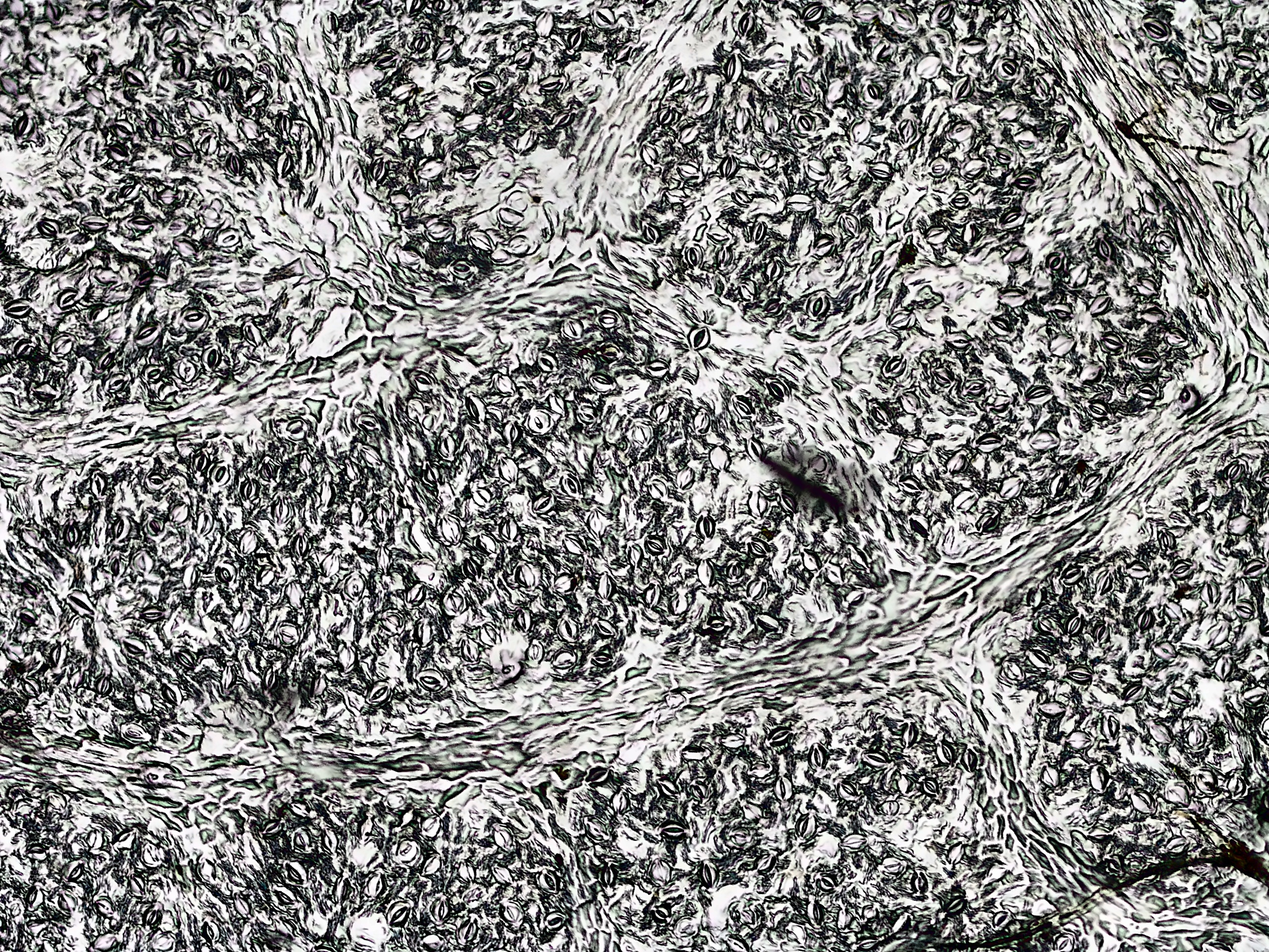stomata: (439, 513, 466, 547), (1181, 720, 1208, 752), (897, 116, 922, 149), (846, 542, 874, 571), (582, 816, 611, 843), (364, 681, 396, 705), (454, 110, 487, 133), (1079, 360, 1108, 386), (706, 442, 732, 471), (1044, 299, 1074, 324), (647, 858, 672, 888), (423, 218, 454, 242), (944, 448, 970, 476), (554, 615, 580, 643), (414, 671, 447, 693), (66, 593, 99, 615), (747, 488, 771, 518), (1131, 349, 1163, 371), (1194, 769, 1221, 795), (1048, 332, 1076, 357), (180, 306, 209, 330), (398, 117, 427, 141), (119, 724, 155, 743), (765, 376, 791, 402), (493, 825, 519, 851), (894, 5, 919, 32), (189, 2, 217, 26), (196, 855, 219, 884), (78, 211, 111, 231), (1028, 430, 1058, 452), (796, 812, 818, 842), (437, 428, 458, 459), (976, 511, 1001, 537), (463, 228, 490, 252), (804, 744, 828, 771), (688, 324, 712, 351), (427, 896, 451, 923), (470, 70, 498, 93), (783, 191, 815, 211), (466, 392, 486, 424), (417, 159, 446, 181), (915, 56, 944, 78), (1141, 19, 1170, 41), (959, 159, 989, 180), (807, 290, 828, 320), (586, 373, 619, 392), (930, 2, 955, 27), (1163, 782, 1189, 806), (187, 99, 214, 122), (240, 319, 263, 346), (952, 489, 979, 512), (838, 831, 869, 851), (1208, 91, 1236, 113), (883, 351, 905, 379), (698, 861, 720, 889), (31, 379, 59, 401), (364, 870, 386, 898), (610, 787, 632, 815), (321, 546, 340, 578), (959, 34, 989, 54), (952, 75, 972, 105), (1024, 384, 1054, 404), (1065, 730, 1095, 750), (672, 918, 702, 938), (449, 257, 475, 280), (552, 571, 578, 594), (946, 119, 973, 141), (1125, 558, 1152, 580), (773, 776, 795, 803), (456, 635, 478, 662), (345, 573, 367, 600), (802, 160, 830, 181), (852, 117, 872, 146), (1124, 211, 1144, 240), (1049, 470, 1069, 499), (695, 511, 715, 540), (694, 556, 714, 585), (462, 661, 491, 681), (1165, 324, 1189, 348), (999, 477, 1023, 501), (278, 624, 302, 648), (50, 332, 75, 355), (800, 547, 823, 572), (461, 559, 486, 582), (926, 222, 952, 244), (645, 357, 671, 379), (284, 416, 310, 438), (375, 542, 394, 572), (1000, 207, 1027, 228), (945, 330, 972, 351), (1212, 654, 1233, 681), (1147, 723, 1174, 744), (562, 471, 583, 498), (9, 110, 29, 138), (534, 9, 554, 37), (853, 2, 881, 22), (1155, 59, 1183, 79), (1002, 659, 1026, 682), (514, 564, 537, 588), (387, 902, 410, 926), (538, 870, 561, 894), (2, 299, 31, 318), (724, 54, 743, 83), (975, 433, 1004, 452), (794, 74, 816, 99), (1165, 833, 1190, 855), (528, 409, 550, 434), (593, 573, 615, 598), (442, 592, 464, 617), (809, 234, 835, 255), (356, 411, 382, 432), (998, 285, 1028, 303), (499, 457, 519, 484), (416, 617, 436, 644), (372, 499, 390, 529), (295, 450, 315, 477), (273, 496, 293, 523), (286, 580, 306, 607), (1134, 381, 1162, 400), (1065, 664, 1093, 683), (643, 582, 662, 610), (494, 371, 517, 394), (475, 533, 498, 556), (734, 14, 756, 38), (1189, 491, 1211, 515), (20, 526, 44, 548), (21, 675, 43, 699), (137, 324, 162, 345), (201, 346, 222, 371), (1086, 294, 1111, 315), (841, 211, 862, 236), (538, 349, 559, 374), (747, 576, 768, 601), (563, 533, 588, 554), (480, 621, 501, 646), (407, 371, 436, 389), (349, 499, 367, 528), (1141, 303, 1167, 323), (1027, 649, 1053, 669), (547, 392, 567, 418), (380, 610, 406, 630), (233, 892, 253, 918), (1135, 605, 1154, 632), (513, 605, 532, 632), (332, 873, 348, 905), (106, 373, 129, 395), (928, 156, 951, 178), (360, 445, 383, 467), (899, 391, 920, 415), (1038, 699, 1066, 717), (1135, 789, 1156, 813), (57, 890, 78, 914), (1082, 470, 1102, 495), (1242, 688, 1267, 708), (654, 777, 679, 797), (551, 648, 576, 668), (292, 532, 312, 557), (272, 886, 297, 906), (198, 507, 214, 538), (591, 7, 617, 26), (1201, 581, 1220, 607), (766, 726, 792, 745), (596, 309, 622, 328), (526, 638, 545, 664), (734, 105, 751, 134), (390, 83, 417, 101), (339, 644, 357, 671), (245, 82, 267, 104), (13, 337, 35, 359), (561, 317, 583, 339), (133, 551, 155, 573), (419, 813, 441, 835), (84, 51, 105, 74), (123, 65, 146, 86), (142, 361, 165, 382), (802, 2, 825, 23), (1060, 565, 1083, 586), (882, 856, 905, 877), (631, 421, 652, 444), (823, 561, 844, 584), (648, 478, 669, 501), (93, 896, 116, 917), (639, 144, 659, 168), (944, 840, 964, 864), (406, 582, 426, 606), (718, 731, 746, 748), (91, 471, 108, 499), (275, 111, 294, 136), (1088, 400, 1113, 419), (964, 377, 989, 396), (898, 475, 923, 494), (1228, 775, 1247, 800), (670, 592, 689, 617), (135, 689, 154, 714), (421, 853, 440, 878), (502, 419, 520, 445), (757, 614, 783, 632), (680, 746, 711, 761), (509, 234, 531, 255), (755, 147, 777, 168), (533, 492, 555, 513), (141, 842, 163, 863), (174, 56, 194, 79), (97, 349, 117, 372), (777, 489, 797, 512), (595, 616, 618, 636), (471, 486, 494, 506), (238, 529, 258, 552), (1091, 764, 1108, 791), (120, 638, 147, 655), (322, 827, 339, 854), (989, 318, 1013, 337), (233, 610, 252, 634), (459, 920, 478, 944), (217, 229, 242, 247), (900, 723, 918, 748), (704, 616, 732, 632), (126, 213, 152, 230), (373, 50, 399, 67), (903, 436, 929, 453), (1104, 713, 1121, 739), (240, 476, 257, 502), (140, 605, 166, 622), (25, 884, 42, 910), (204, 920, 221, 946), (58, 287, 79, 308), (88, 302, 109, 323), (678, 124, 699, 145), (1154, 233, 1175, 254), (169, 502, 190, 523), (287, 863, 308, 884), (38, 218, 60, 238), (889, 310, 911, 330), (1052, 932, 1074, 952), (500, 518, 520, 540), (491, 865, 513, 885), (111, 118, 134, 137), (199, 133, 218, 156), (551, 108, 574, 127), (761, 109, 780, 132), (1172, 558, 1195, 577), (993, 908, 1012, 931), (937, 740, 956, 763), (212, 462, 231, 485), (587, 765, 610, 784), (178, 358, 196, 382), (566, 27, 584, 51), (1064, 613, 1082, 637), (1122, 684, 1146, 702), (661, 823, 688, 839), (965, 220, 981, 247), (764, 258, 782, 282), (747, 437, 765, 461), (309, 673, 327, 697), (290, 800, 314, 818), (911, 871, 928, 896), (113, 515, 130, 540), (23, 840, 48, 857), (1164, 601, 1184, 622), (947, 896, 968, 916), (689, 781, 709, 802), (735, 398, 755, 419), (223, 661, 238, 689), (258, 567, 278, 588), (108, 138, 127, 160), (435, 39, 454, 61), (1000, 58, 1019, 80), (748, 539, 770, 558), (544, 911, 566, 930), (229, 152, 245, 178), (720, 153, 736, 179), (1093, 621, 1109, 647), (1087, 825, 1113, 841), (870, 160, 893, 178), (1235, 48, 1258, 66), (1046, 249, 1064, 272), (1100, 332, 1123, 350), (1158, 528, 1176, 551), (1167, 686, 1190, 704), (1042, 765, 1060, 788), (643, 221, 661, 244), (601, 343, 624, 361), (502, 901, 520, 924), (678, 162, 702, 179), (1033, 75, 1050, 99), (961, 748, 978, 772), (677, 465, 694, 489), (733, 188, 753, 208), (869, 405, 889, 425), (1153, 643, 1178, 659), (748, 762, 773, 778), (725, 936, 750, 952), (694, 407, 710, 432), (161, 25, 180, 46), (514, 45, 533, 66), (1244, 558, 1265, 577), (424, 463, 443, 484), (292, 829, 311, 850), (458, 860, 477, 881), (172, 138, 194, 156), (119, 181, 137, 203), (613, 40, 631, 62), (1136, 279, 1158, 297), (932, 366, 954, 384), (1234, 601, 1256, 619), (193, 451, 211, 473), (164, 683, 181, 706), (323, 8, 338, 34), (728, 828, 754, 843), (716, 244, 731, 270), (216, 66, 232, 90), (87, 1, 107, 20), (175, 650, 195, 669), (66, 861, 85, 881), (1052, 119, 1070, 140), (262, 818, 283, 836), (751, 221, 768, 243), (739, 279, 756, 301), (578, 406, 600, 423), (50, 643, 67, 665), (370, 158, 386, 181), (627, 544, 643, 567), (136, 267, 155, 286), (655, 106, 674, 125), (397, 840, 416, 859), (1245, 82, 1265, 100), (818, 874, 838, 892), (840, 781, 860, 799), (653, 400, 671, 420), (128, 872, 146, 892), (754, 855, 775, 872), (873, 44, 895, 60), (686, 246, 702, 268), (64, 522, 80, 544), (144, 904, 160, 926), (666, 76, 689, 91), (1096, 572, 1111, 595), (501, 102, 519, 121), (796, 113, 814, 132), (646, 534, 664, 553), (147, 517, 166, 535), (87, 829, 105, 848), (993, 147, 1014, 163), (589, 652, 613, 666), (147, 117, 162, 139), (460, 165, 482, 180), (261, 667, 276, 689), (278, 153, 291, 178), (994, 3, 1012, 21), (602, 862, 614, 889), (1016, 173, 1035, 190), (147, 473, 166, 490), (856, 936, 879, 950), (158, 189, 178, 205), (539, 75, 560, 90), (261, 460, 276, 481), (810, 900, 823, 924), (921, 778, 939, 795), (20, 581, 39, 597), (97, 675, 111, 696), (412, 36, 429, 53), (867, 82, 883, 100), (725, 561, 741, 579), (219, 566, 237, 582), (1098, 237, 1111, 259), (650, 905, 669, 920), (896, 775, 910, 795), (863, 754, 888, 765), (1037, 617, 1054, 633), (882, 801, 899, 817), (951, 192, 969, 207), (1226, 464, 1241, 482), (763, 301, 782, 315), (18, 611, 37, 625), (434, 0, 453, 13), (110, 557, 123, 575), (406, 0, 422, 14), (863, 904, 877, 919), (1261, 471, 1269, 490)
